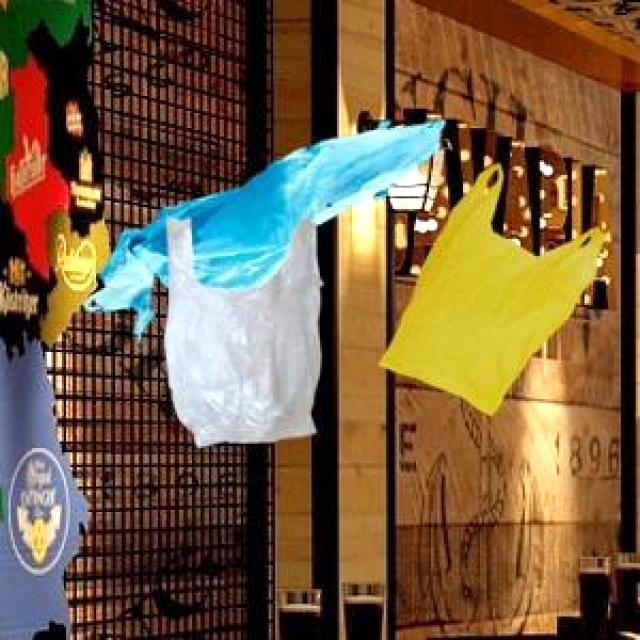Plastic_Bag: (87, 119, 440, 338), (377, 161, 602, 413), (161, 217, 319, 442)
